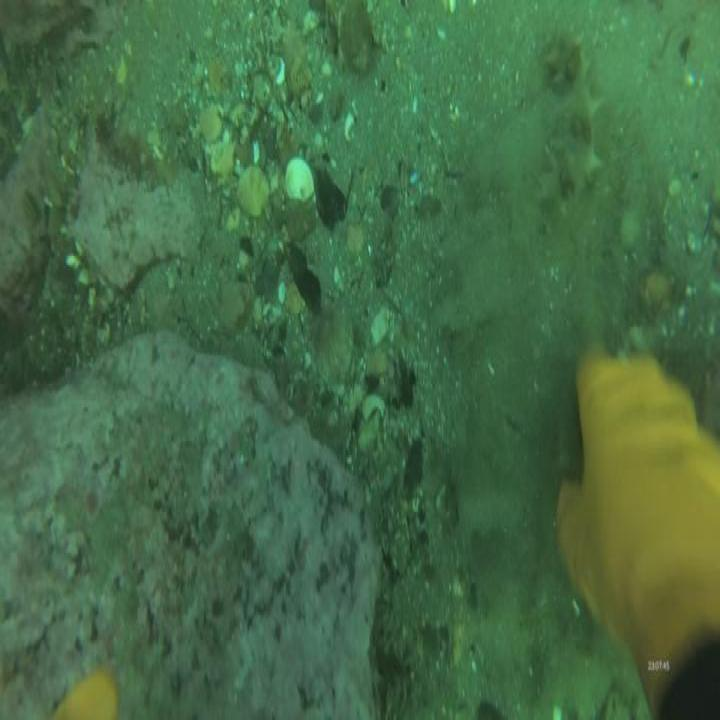holothurian: (543, 30, 601, 249)
